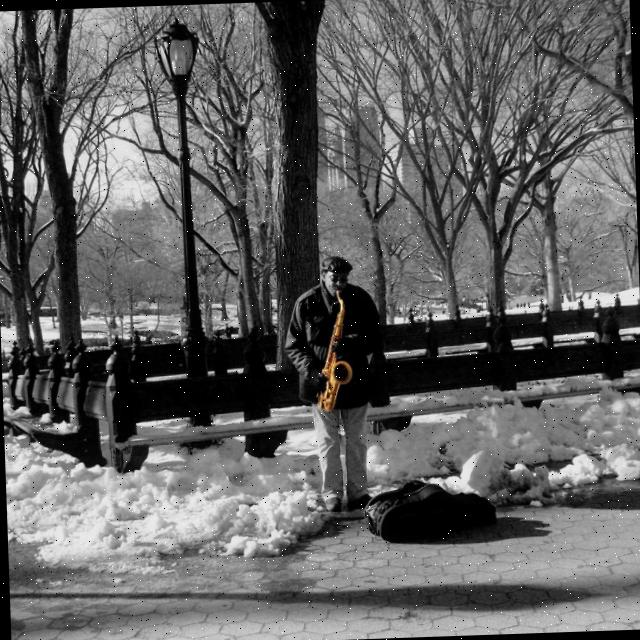saxophone: (314, 290, 356, 413)
